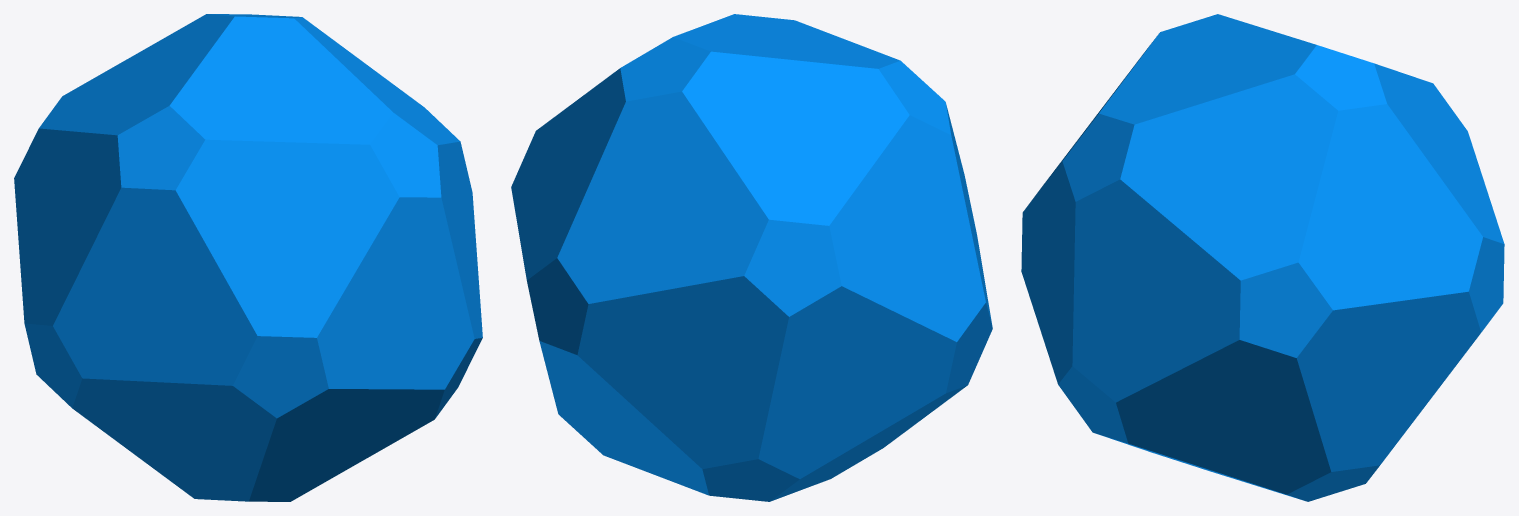
Rendered from VEN_Sphere_Passive.obj.
The picture shows the model from 3 angles, left to right: view 1: azimuth 30°, elevation 25°; view 2: azimuth 150°, elevation 25°; view 3: azimuth 270°, elevation 25°; orthographic projection. The views are drawn at different scales.
Visible parts, largest first — view 1: m_VEN_Gyro_AllAxis_Active_111_Sphere; view 2: m_VEN_Gyro_AllAxis_Active_111_Sphere; view 3: m_VEN_Gyro_AllAxis_Active_111_Sphere.
Part boxes in pixels (left/top/right/bottom): m_VEN_Gyro_AllAxis_Active_111_Sphere: left=14, top=14, right=482, bottom=501; m_VEN_Gyro_AllAxis_Active_111_Sphere: left=511, top=14, right=992, bottom=501; m_VEN_Gyro_AllAxis_Active_111_Sphere: left=1021, top=14, right=1504, bottom=501.
Size of the model in its own units: 0.64 by 0.6294 by 0.6276.
